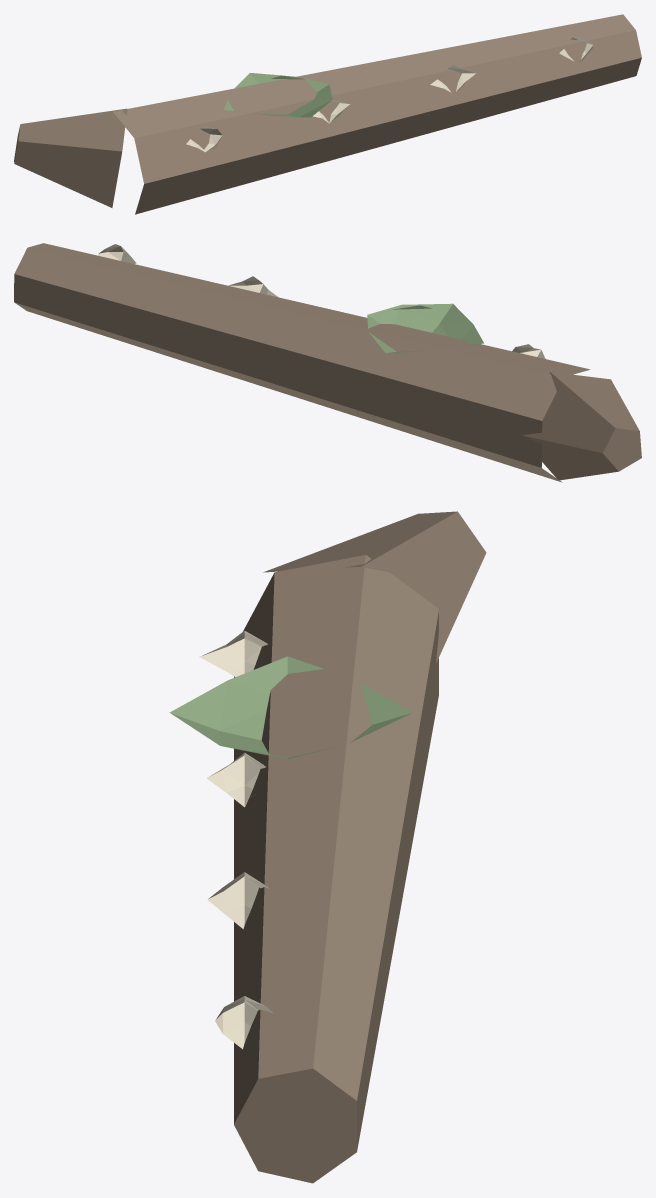
Rendered from log_v47.glb.
3 views of the same model, one above another, from view 1: azimuth 30°, elevation 25°; view 2: azimuth 150°, elevation 25°; view 3: azimuth 270°, elevation 25° (orthographic). The views are drawn at different scales.
Parts seen in each view (by area): view 1: lod0; view 2: lod0; view 3: lod0.
Part boxes in pixels (x1,y1,x2,y2): lod0: [14, 14, 641, 214]; lod0: [14, 243, 641, 482]; lod0: [169, 511, 486, 1183].
Size of what is drawn, in the model's own units: 3.98 by 0.7157 by 0.9392.
